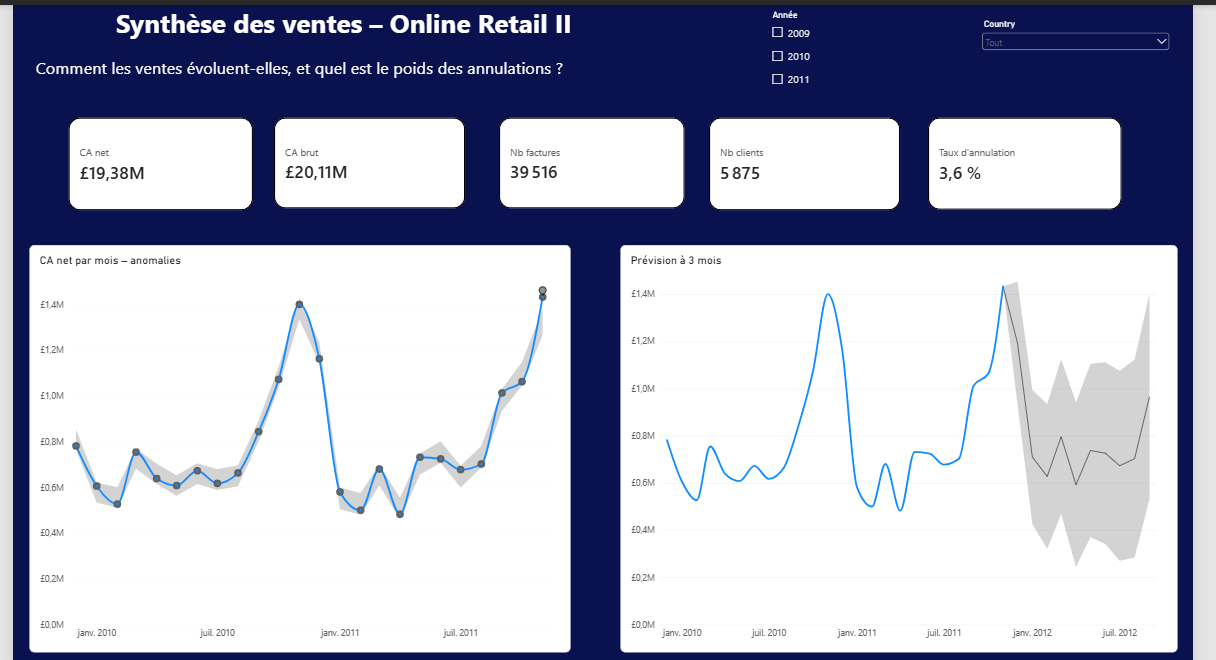

The dashboard page shown, as its layout file describes it:
{"tool":"powerbi","page":{"name":"Synthèse","canvas":[1920,1080],"ordinal":0},"visuals":[{"type":"textbox","box":[11.3,0,1051.7,82.2],"z":0},{"type":"textbox","box":[11.3,82.2,907.1,42.5],"z":1000},{"type":"slicer","fields":{"Values":["DimDate.Année"]},"box":[1227.4,8.5,314.6,150.2],"z":1001},{"type":"slicer","fields":{"Values":["DimPays.Country"]},"box":[1570.4,22.7,314.6,116.2],"z":1002},{"type":"cardVisual","fields":{"Data":["DimDate.CA net"]},"box":[91.4,182.9,300,151.4],"z":1003},{"type":"cardVisual","fields":{"Data":["_Mesures.CA brut"]},"box":[425.7,182.9,311.4,148.6],"z":1004},{"type":"cardVisual","fields":{"Data":["_Mesures.Nb clients (affichage)"]},"box":[1131.4,182.9,311.4,151.4],"z":1006},{"type":"cardVisual","fields":{"Data":["_Mesures.Taux d'annulation"]},"box":[1488.6,182.9,315,150],"z":1007},{"type":"lineChart","title":"Prévision à 3 mois","fields":{"Category":["DimDate.DébutMois"],"Y":["DimDate.CA net"]},"box":[988.6,391.4,905.7,662.9],"z":1008},{"type":"lineChart","title":"CA net par mois – anomalies","fields":{"Category":["DimDate.DébutMois"],"Y":["DimDate.CA net"]},"box":[25.7,391.4,880,662.9],"z":1009},{"type":"cardVisual","fields":{"Data":["_Mesures.Nb factures (affichage)"]},"box":[790.5,183,302.5,148.8],"z":1010}]}

Visuals, with their boxes on the page's 1920x1080 design canvas (x1, y1, x2, y2). These are canvas units, not pixel positions in the 1216x660 screenshot, which may show the page scaled, cropped or inside an application window:
textbox: <box>11,0,1063,82</box>
textbox: <box>11,82,918,125</box>
slicer - DimDate.Année: <box>1227,8,1542,159</box>
slicer - DimPays.Country: <box>1570,23,1885,139</box>
cardVisual - DimDate.CA net: <box>91,183,391,334</box>
cardVisual - _Mesures.CA brut: <box>426,183,737,332</box>
cardVisual - _Mesures.Nb clients (affichage): <box>1131,183,1443,334</box>
cardVisual - _Mesures.Taux d'annulation: <box>1489,183,1804,333</box>
"Prévision à 3 mois" lineChart: <box>989,391,1894,1054</box>
"CA net par mois – anomalies" lineChart: <box>26,391,906,1054</box>
cardVisual - _Mesures.Nb factures (affichage): <box>790,183,1093,332</box>
